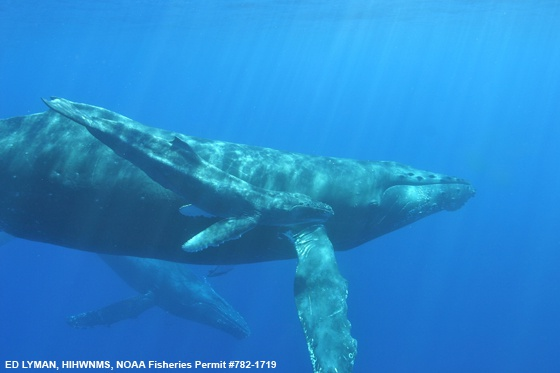humpback: (7, 118, 471, 264)
